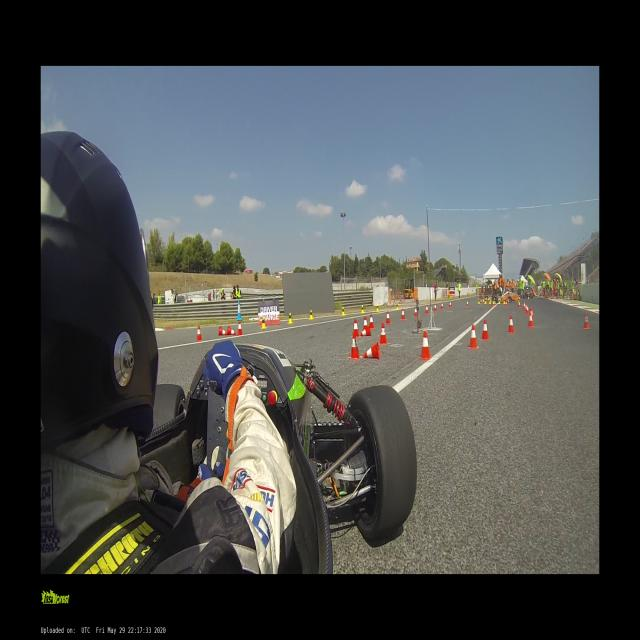orange_cone: (419, 331, 432, 359), (348, 330, 360, 360), (364, 341, 380, 358), (468, 324, 478, 348), (379, 322, 388, 346), (481, 320, 489, 340), (352, 318, 359, 337), (582, 313, 590, 329), (508, 315, 514, 333), (196, 325, 202, 342), (218, 326, 228, 336), (528, 312, 534, 328), (363, 316, 369, 332), (360, 327, 370, 336), (237, 322, 243, 336), (369, 313, 374, 329), (400, 308, 406, 320), (227, 326, 236, 334), (530, 308, 534, 324), (413, 306, 418, 318), (386, 311, 390, 324), (425, 305, 429, 314), (433, 304, 437, 312), (526, 306, 529, 314), (466, 300, 469, 308), (441, 303, 444, 310), (449, 301, 452, 308), (518, 302, 521, 308), (525, 303, 527, 312), (524, 302, 526, 310), (505, 300, 507, 307), (492, 300, 494, 307), (508, 298, 510, 304), (480, 300, 482, 304), (486, 298, 487, 302)
unknown_cone: (237, 300, 242, 320)
yellow_cone: (260, 316, 268, 329), (288, 312, 293, 324), (309, 310, 314, 320), (341, 306, 345, 316), (361, 305, 365, 313), (376, 304, 380, 312), (395, 303, 399, 310), (478, 298, 480, 304), (498, 298, 500, 304), (489, 298, 491, 304), (494, 298, 496, 304), (504, 299, 506, 304), (484, 299, 486, 304), (483, 297, 484, 302), (528, 295, 529, 299), (518, 298, 519, 302)
